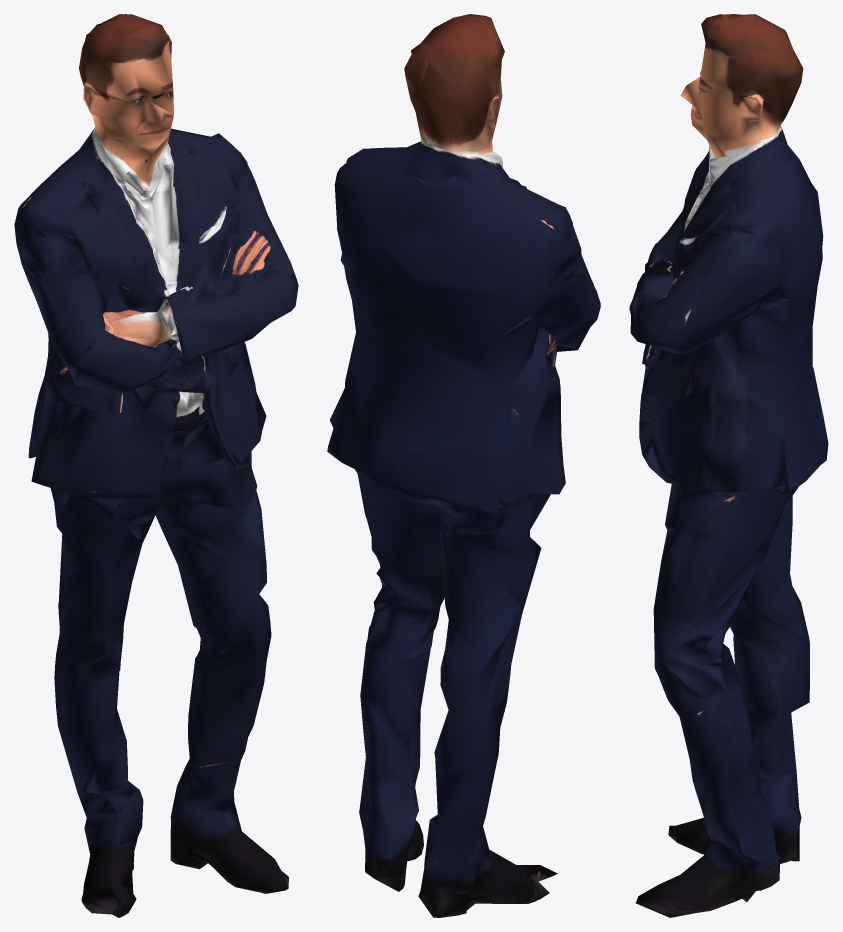
File: business_man.glb
3 renders of one model, left to right at view 1: azimuth 30°, elevation 25°; view 2: azimuth 150°, elevation 25°; view 3: azimuth 270°, elevation 25°, orthographic. The views are drawn at different scales.
Size of the model in its own units: 0.5401 by 1.9 by 0.4045.
Materials: 1 (1 with a texture image).
